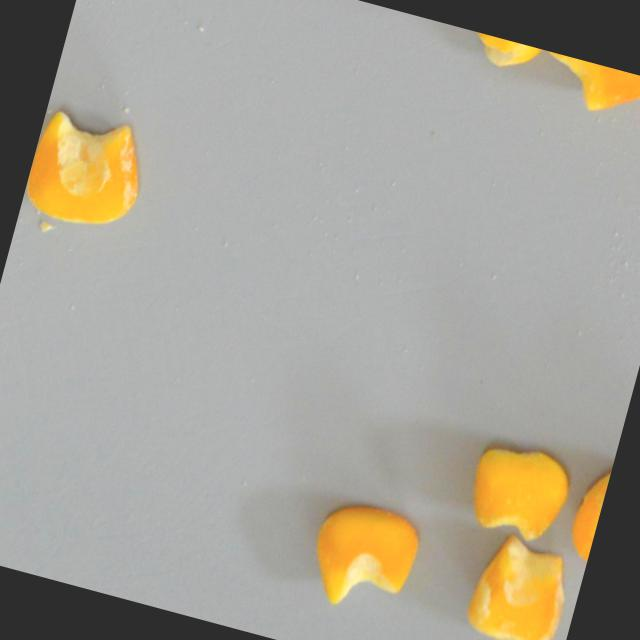no_canjicado: (299, 492, 425, 621), (458, 435, 574, 548), (532, 49, 640, 122), (458, 28, 553, 82)
pelicula: (18, 102, 153, 238), (457, 528, 575, 640), (560, 453, 614, 568)
